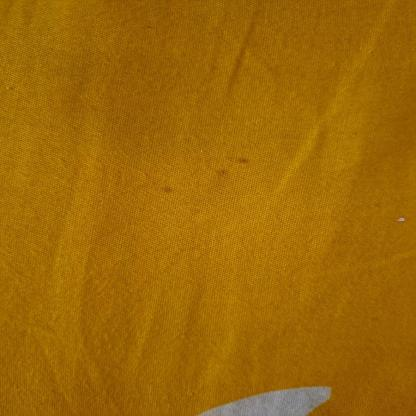spot: (151, 182, 198, 203), (225, 152, 254, 167), (212, 165, 239, 179), (395, 210, 411, 226)
